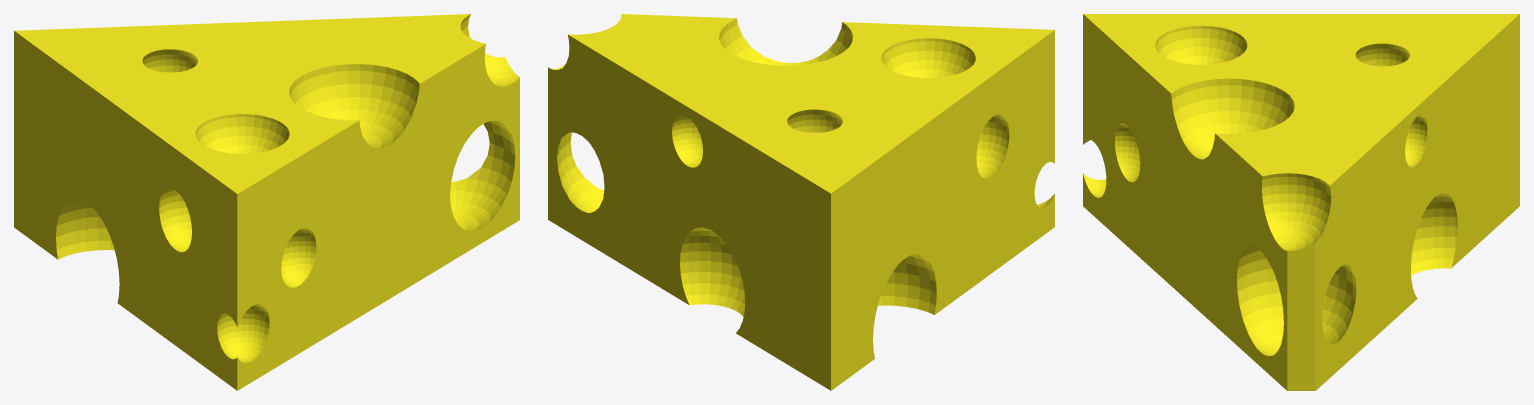
File: cheese.glb
3 renders of one model, left to right at view 1: azimuth 30°, elevation 25°; view 2: azimuth 150°, elevation 25°; view 3: azimuth 270°, elevation 25°, orthographic. The views are drawn at different scales.
Parts seen in each view (by area): view 1: cheese; view 2: cheese; view 3: cheese.
Boxes of the visible parts, x1,y1,x2,y2 form: cheese: (14, 14, 519, 390); cheese: (548, 14, 1054, 390); cheese: (1083, 14, 1519, 390).
Bounding box in the file's own units: 2 × 0.9725 × 2.
